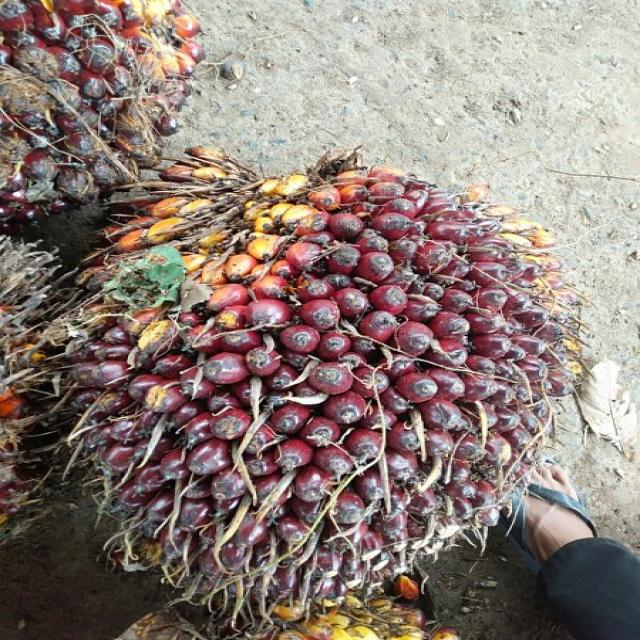fraksi 1: (46, 148, 558, 570)
